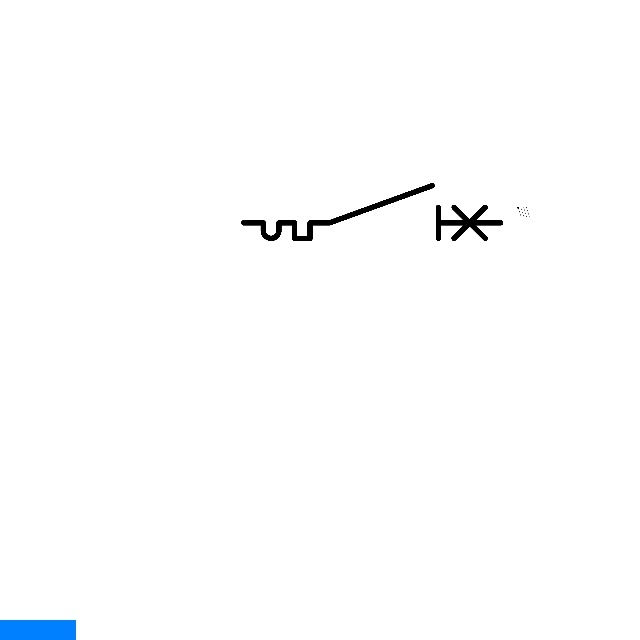interruptor_termomagnetico: (237, 179, 508, 245)
